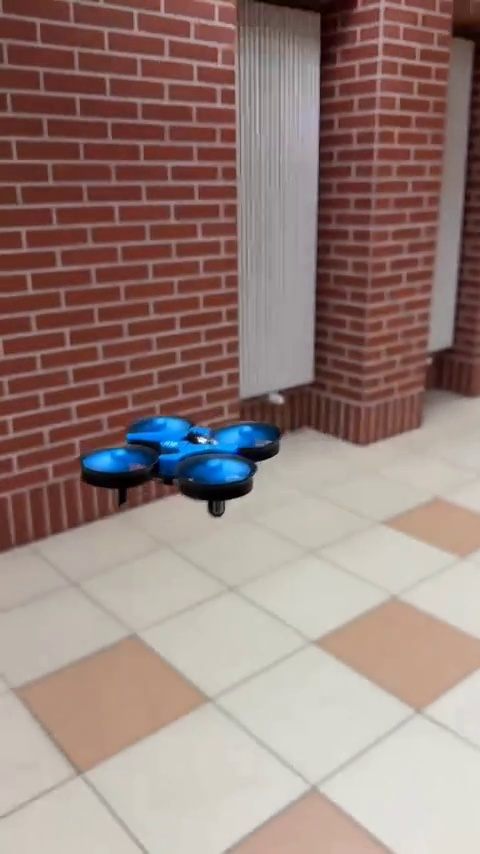drone: (92, 414, 283, 509)
